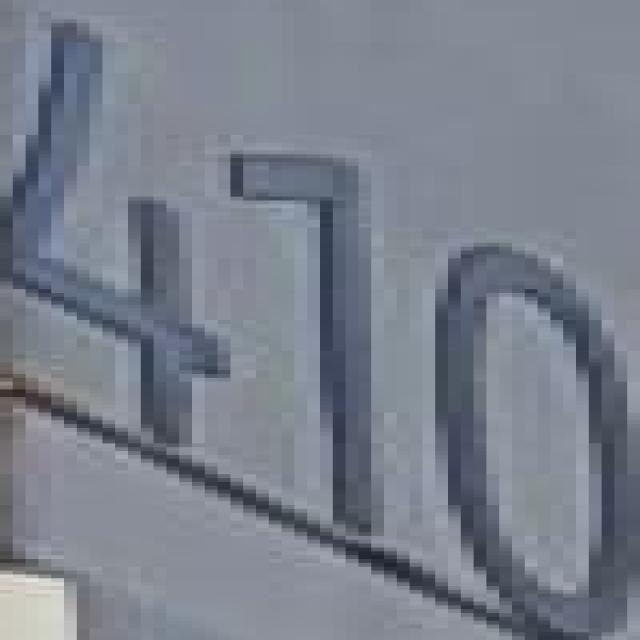character: (0, 12, 243, 455), (422, 235, 640, 640), (215, 144, 402, 548)
